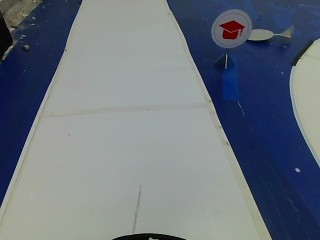school: (210, 6, 251, 50)
